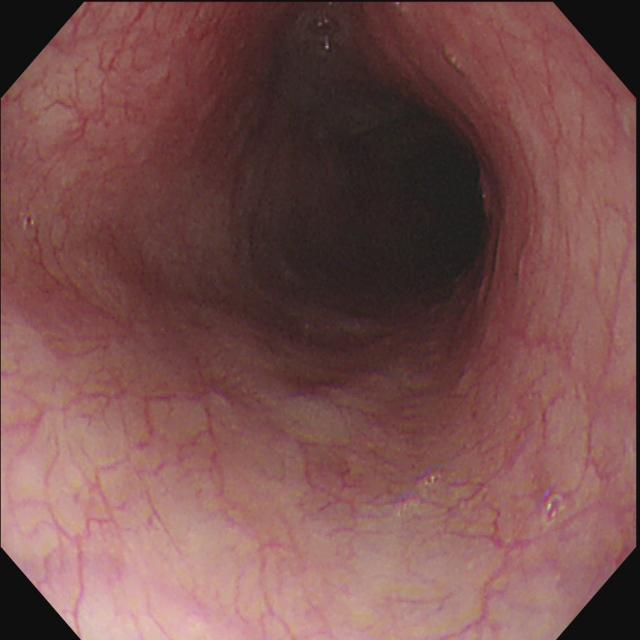E: (381, 154, 474, 274)
